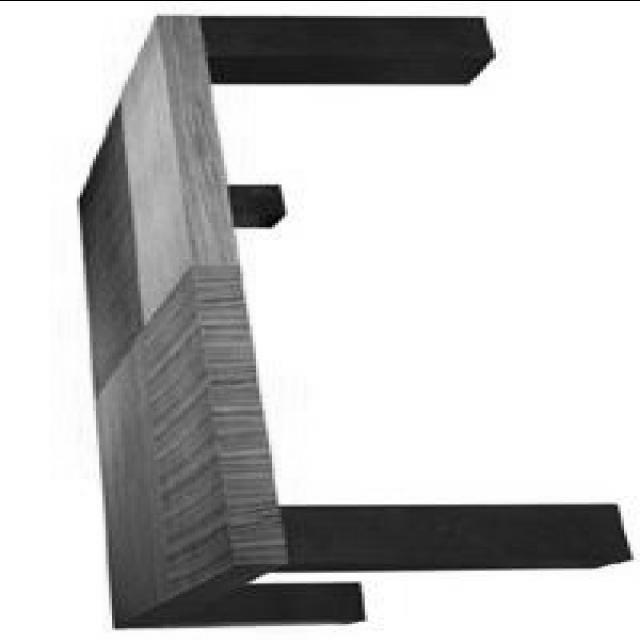table: (76, 14, 634, 626)
